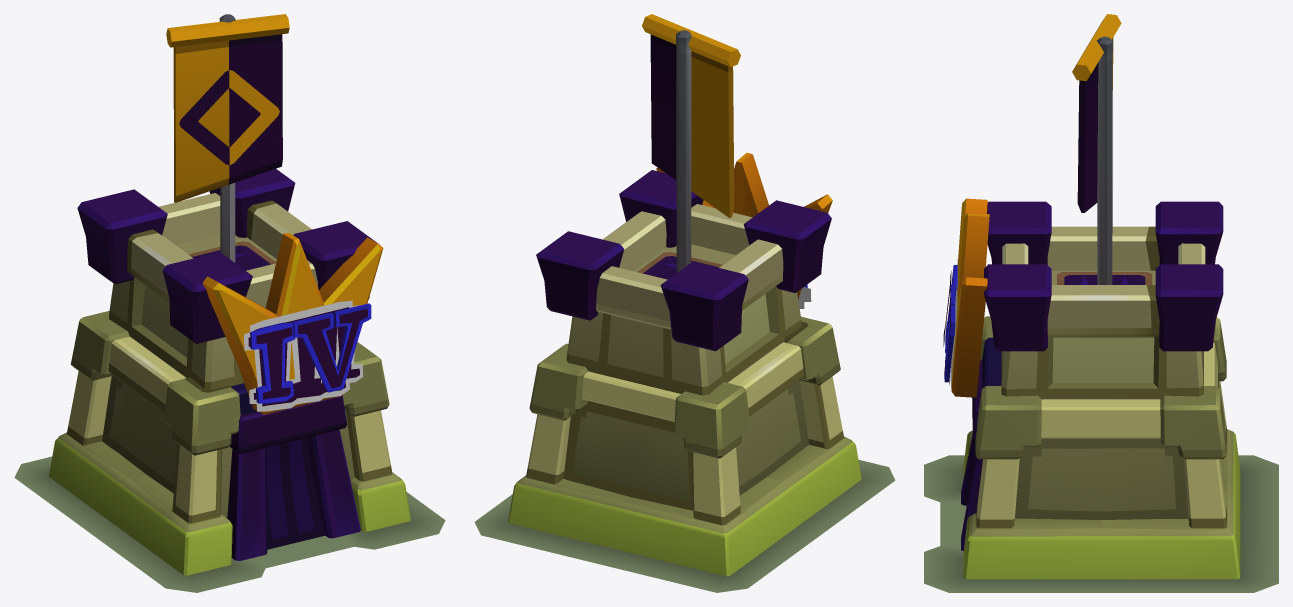
Rendered from TownHoll_Rework.fbx.
3 views of the same model, side by side, from view 1: azimuth 30°, elevation 25°; view 2: azimuth 150°, elevation 25°; view 3: azimuth 270°, elevation 25° (orthographic). The views are drawn at different scales.
Parts seen in each view (by area): view 1: TownHoll_Rework_T1, TownHoll_Rework_T4, TownHoll_Rework_T2, TownHoll_Rework_T3; view 2: TownHoll_Rework_T1; view 3: TownHoll_Rework_T1, TownHoll_Rework_T4.
Part boxes in pixels (<box>): TownHoll_Rework_T1: <box>14,14,445,592</box>; TownHoll_Rework_T4: <box>249,303,371,403</box>; TownHoll_Rework_T2: <box>250,300,352,411</box>; TownHoll_Rework_T3: <box>244,305,363,403</box>; TownHoll_Rework_T1: <box>474,14,895,592</box>; TownHoll_Rework_T1: <box>924,14,1278,592</box>; TownHoll_Rework_T4: <box>943,265,957,382</box>.
Size of the model in its own units: 4.62 by 7.6 by 5.04.
